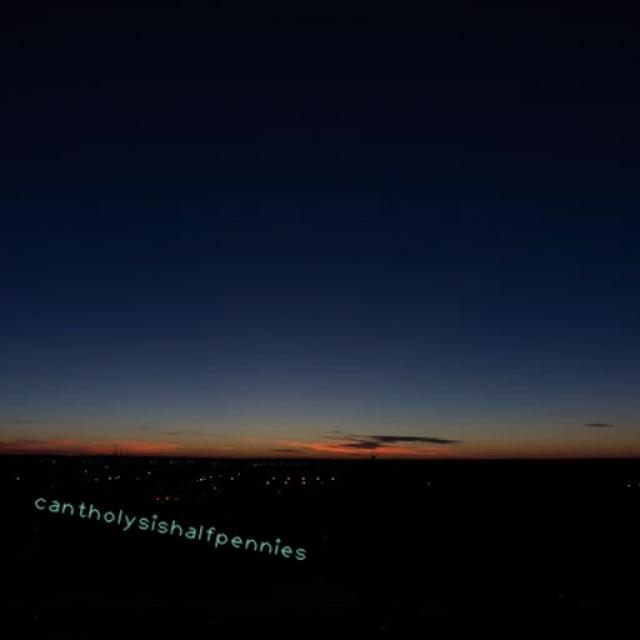watermark: (26, 492, 321, 564)
